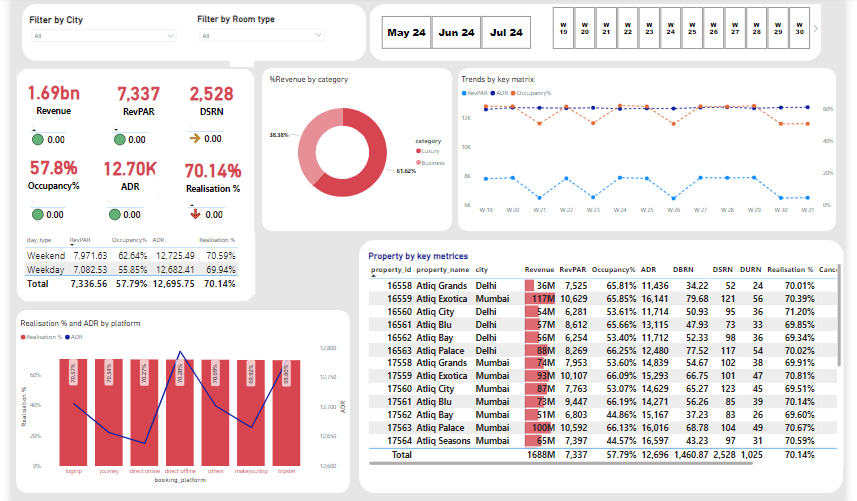

This screenshot's page, from the dashboard's own definition file:
{"tool":"powerbi","page":{"name":"Page 1","canvas":[1800,1100],"ordinal":0},"visuals":[{"type":"shape","box":[8.7,677.8,723.2,396.3],"z":0},{"type":"shape","box":[751.4,526.2,1048,547.8],"z":1000},{"type":"shape","box":[965.7,153.7,818.5,353],"z":2000},{"type":"shape","box":[541.3,153.7,411.4,353],"z":3000},{"type":"shape","box":[8.7,153.7,517.5,506.7],"z":4000},{"type":"shape","box":[775.2,15.2,976.6,123.4],"z":5000},{"type":"shape","box":[21.7,15.2,744.9,123.4],"z":6000},{"type":"tableEx","title":"Property by key metrices","fields":{"Values":["dim_hotels.property_id","dim_hotels.property_name","dim_hotels.city","key_measures.Revenue","key_measures.RevPAR","key_measures.Occupancy%","key_measures.ADR","key_measures.DBRN","key_measures.DSRN","key_measures.DURN","key_measures.Realisation %","key_measures.Cancellation%"]},"box":[766.5,550,1034,469],"z":7000},{"type":"slicer","title":"Filter by City","fields":{"Values":["dim_hotels.city"]},"box":[32.5,36.8,333.5,84.4],"z":8000},{"type":"slicer","title":"Filter by Room type","fields":{"Values":["dim_rooms.room_class"]},"box":[396.3,36.8,290.2,84.4],"z":9000},{"type":"slicer","fields":{"Values":["dim_date.mmm yy"]},"box":[775.2,34.6,372.4,84.4],"z":10000},{"type":"slicer","fields":{"Values":["dim_date.week no"]},"box":[1145.5,15.2,606.3,103.9],"z":11000},{"type":"card","fields":{"Values":["key_measures.Revenue"]},"box":[23.8,168.9,132.1,90.9],"z":12000},{"type":"card","fields":{"Values":["key_measures.RevPAR"]},"box":[197,173.2,153.7,88.8],"z":13000},{"type":"card","fields":{"Values":["key_measures.DSRN"]},"box":[359.4,173.2,145.1,86.6],"z":14000},{"type":"card","fields":{"Values":["key_measures.Occupancy%"]},"box":[23.8,331.3,132.1,93.1],"z":15000},{"type":"card","fields":{"Values":["key_measures.ADR"]},"box":[188.4,335.6,134.3,88.8],"z":16000},{"type":"card","fields":{"Values":["key_measures.Realisation %"]},"box":[365.9,340,138.6,86.6],"z":17000},{"type":"donutChart","title":"%Revenue by category","fields":{"Category":["dim_hotels.category"],"Y":["key_measures.Revenue"]},"box":[552.2,168.9,400.6,316.1],"z":18000},{"type":"lineChart","title":"Trends by key matrix","fields":{"Category":["dim_date.mmm yy.Variation.Date Hierarchy.Month","dim_date.week no"],"Y":["key_measures.RevPAR","key_measures.ADR"],"Y2":["key_measures.Occupancy%"]},"box":[967.9,168.9,816.3,311.8],"z":19000},{"type":"lineStackedColumnComboChart","title":"Realisation % and ADR by platform","fields":{"Category":["fact_bookings.booking_platform"],"Y":["key_measures.Realisation %"],"Y2":["key_measures.ADR"]},"box":[13,697.2,714.6,361.6],"z":20000},{"type":"tableEx","fields":{"Values":["dim_date.day_type","key_measures.RevPAR","key_measures.Occupancy%","key_measures.ADR","key_measures.Realisation %"]},"box":[21.7,511,504.5,132.1],"z":21000},{"type":"tableEx","fields":{"Values":["key_measures.Revenue WoW change %"]},"box":[310.2,365.2,13.2,72.6],"z":22000},{"type":"tableEx","fields":{"Values":["key_measures.Revenue WoW change %"]},"box":[32.5,262,123.4,84.4],"z":23000},{"type":"tableEx","fields":{"Values":["key_measures.DSRN WoW change %"]},"box":[374.6,259.8,129.9,84.4],"z":24000},{"type":"tableEx","fields":{"Values":["key_measures.Revpar WoW change %"]},"box":[210,262,123.4,78],"z":25000},{"type":"tableEx","fields":{"Values":["key_measures.Revenue WoW change %"]},"box":[374.6,424.4,140.7,82.3],"z":26000},{"type":"tableEx","fields":{"Values":["key_measures.ADR WoW change %"]},"box":[199.2,424.4,110.4,82.3],"z":27000},{"type":"tableEx","fields":{"Values":["key_measures.Occupancy WoW change %"]},"box":[32.5,424.4,103.9,82.3],"z":28000}]}

Visuals, with their boxes on the page's 1800x1100 design canvas (x1, y1, x2, y2). These are canvas units, not pixel positions in the 857x501 screenshot, which may show the page scaled, cropped or inside an application window:
shape: <region>9, 678, 732, 1074</region>
shape: <region>751, 526, 1799, 1074</region>
shape: <region>966, 154, 1784, 507</region>
shape: <region>541, 154, 953, 507</region>
shape: <region>9, 154, 526, 660</region>
shape: <region>775, 15, 1752, 139</region>
shape: <region>22, 15, 767, 139</region>
"Property by key metrices" tableEx: <region>766, 550, 1800, 1019</region>
"Filter by City" slicer: <region>32, 37, 366, 121</region>
"Filter by Room type" slicer: <region>396, 37, 686, 121</region>
slicer - dim_date.mmm yy: <region>775, 35, 1148, 119</region>
slicer - dim_date.week no: <region>1146, 15, 1752, 119</region>
card - key_measures.Revenue: <region>24, 169, 156, 260</region>
card - key_measures.RevPAR: <region>197, 173, 351, 262</region>
card - key_measures.DSRN: <region>359, 173, 504, 260</region>
card - key_measures.Occupancy%: <region>24, 331, 156, 424</region>
card - key_measures.ADR: <region>188, 336, 323, 424</region>
card - key_measures.Realisation %: <region>366, 340, 504, 427</region>
"%Revenue by category" donutChart: <region>552, 169, 953, 485</region>
"Trends by key matrix" lineChart: <region>968, 169, 1784, 481</region>
"Realisation % and ADR by platform" lineStackedColumnComboChart: <region>13, 697, 728, 1059</region>
tableEx - dim_date.day_type x key_measures.RevPAR: <region>22, 511, 526, 643</region>
tableEx - key_measures.Revenue WoW change %: <region>310, 365, 323, 438</region>
tableEx - key_measures.Revenue WoW change %: <region>32, 262, 156, 346</region>
tableEx - key_measures.DSRN WoW change %: <region>375, 260, 504, 344</region>
tableEx - key_measures.Revpar WoW change %: <region>210, 262, 333, 340</region>
tableEx - key_measures.Revenue WoW change %: <region>375, 424, 515, 507</region>
tableEx - key_measures.ADR WoW change %: <region>199, 424, 310, 507</region>
tableEx - key_measures.Occupancy WoW change %: <region>32, 424, 136, 507</region>
